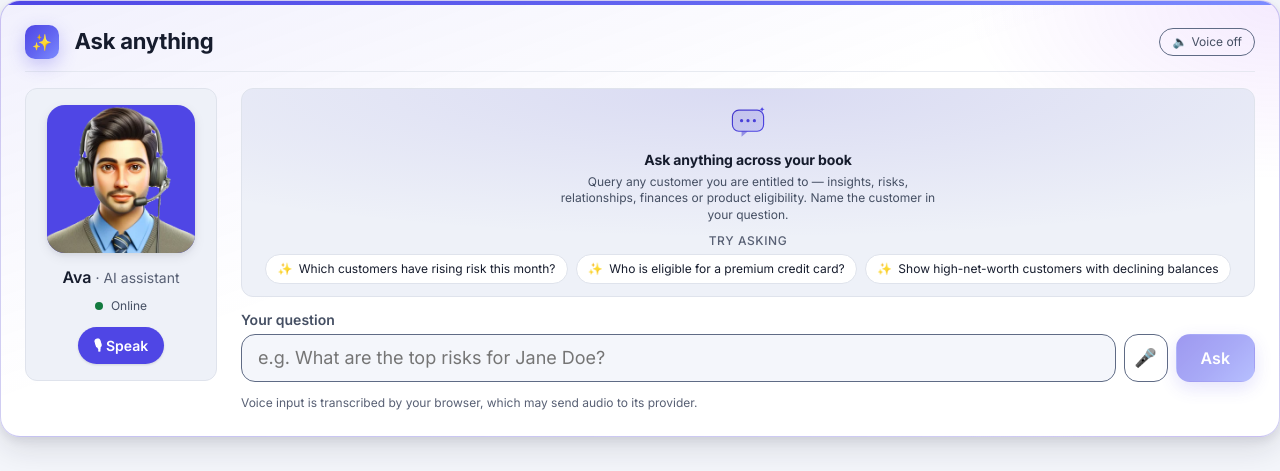
Test: voice input › dictates a phrase into the composer
Step 1. Click the button named "ask by voice" → [1146, 358], box [1124,334,1168,382]
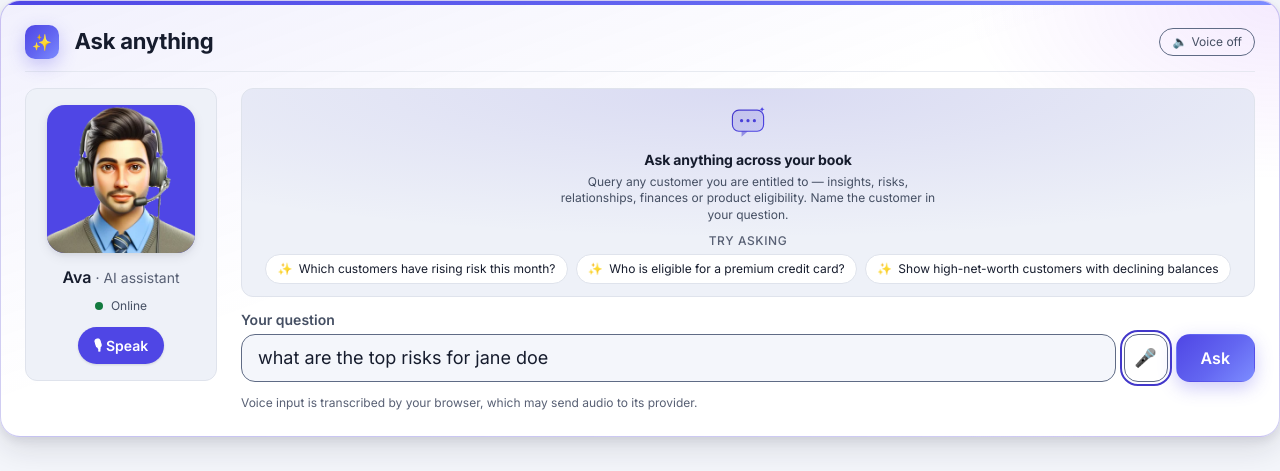
expect the field labelled "Your question" holds "what are the top risks for jane doe": met, box [241,334,1116,382]
